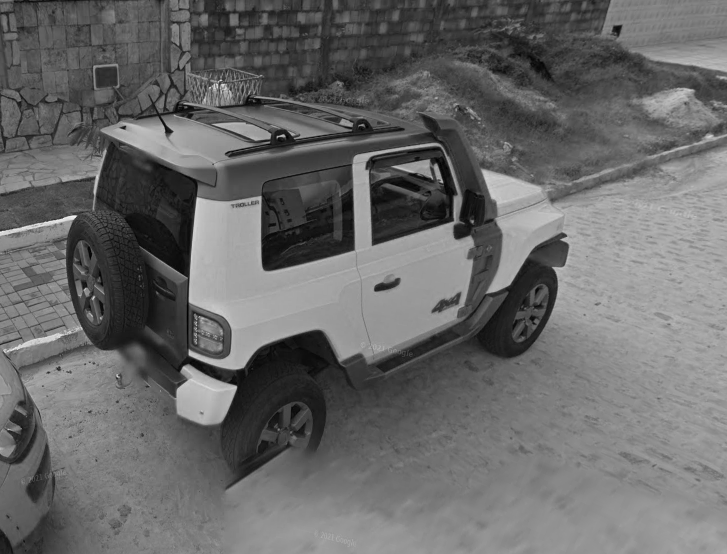car: (62, 90, 572, 484)
